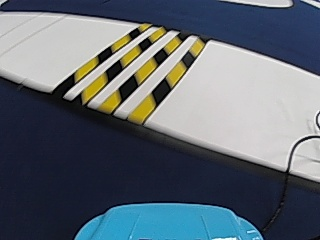bump: (55, 28, 195, 113)
